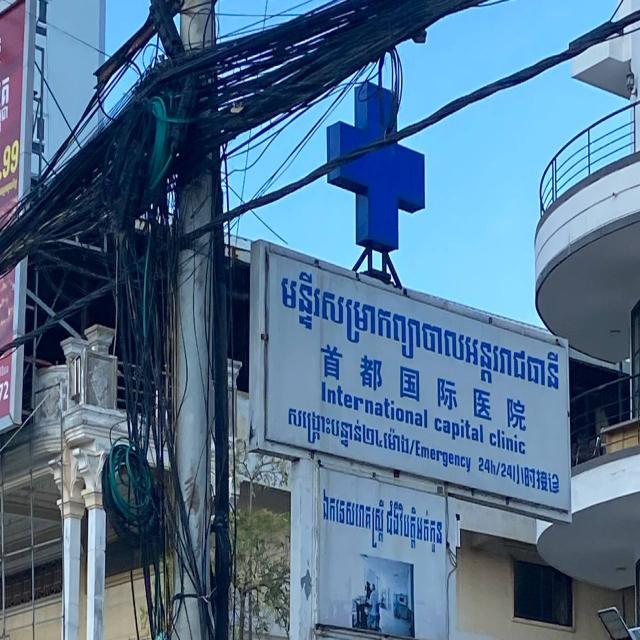1: (319, 474, 451, 569)
677: (475, 448, 514, 485)
Yolov11kh: (276, 258, 566, 408), (280, 393, 418, 477)
